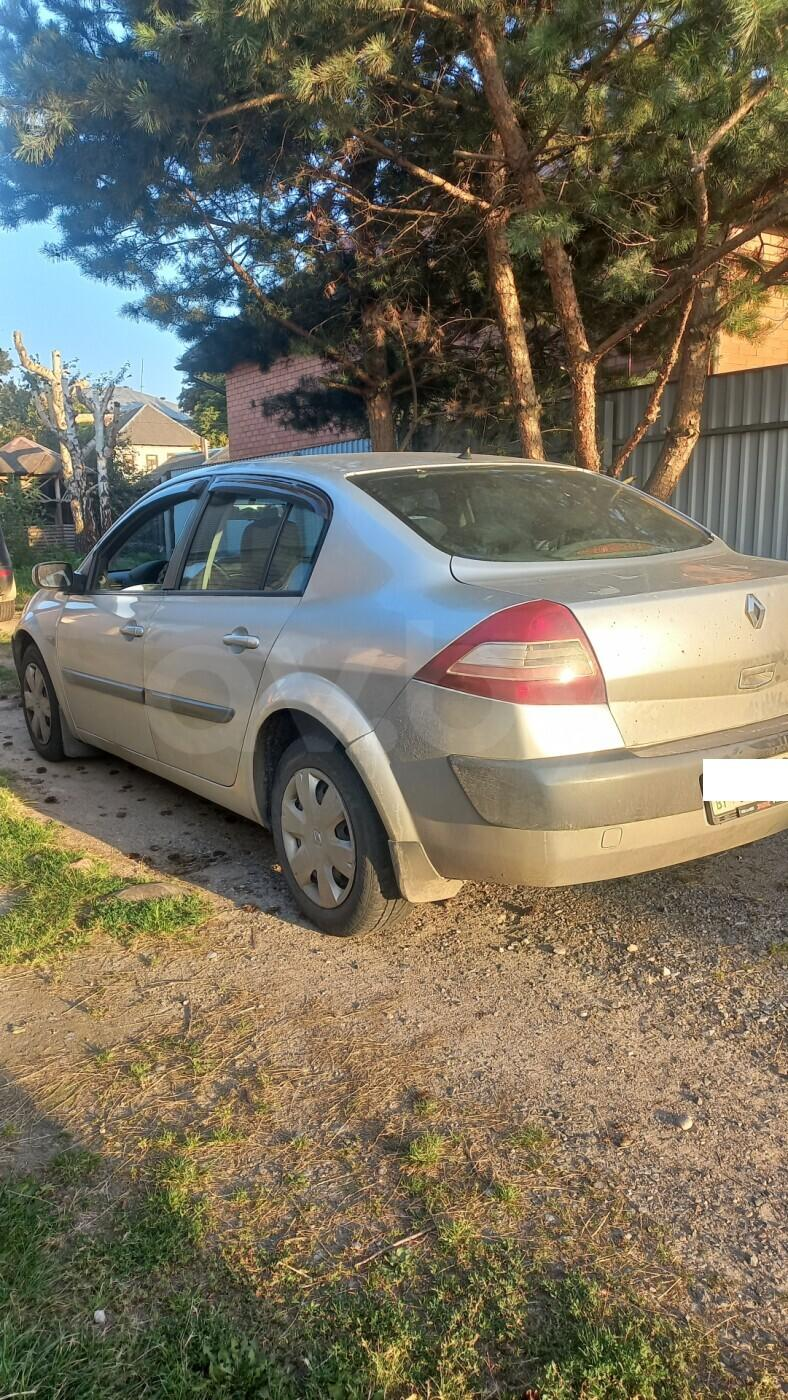Megane_2005-2009: (0, 450, 788, 924)
